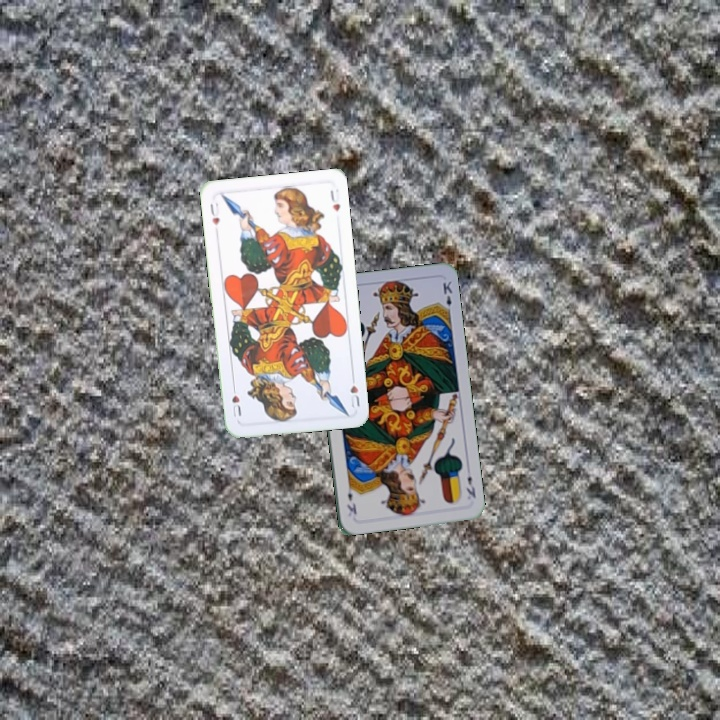EK: (462, 464, 478, 501)
HU: (345, 371, 363, 410), (206, 198, 222, 228)
